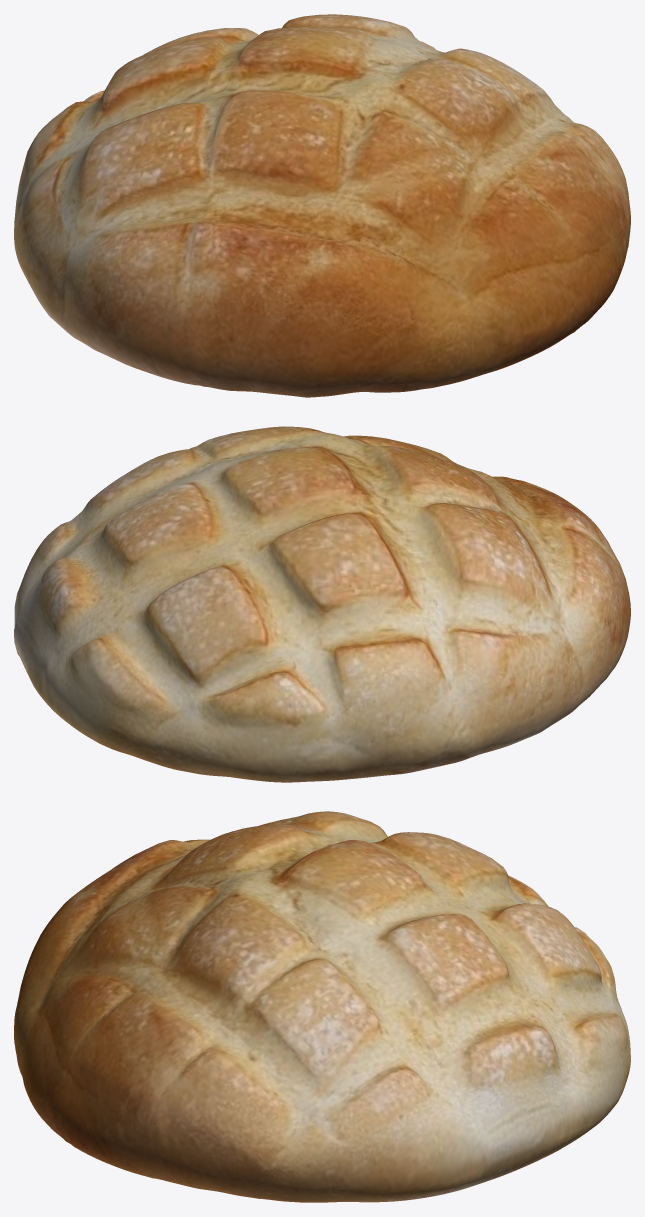
File: bread_roll_1.fbx
The picture shows the model from 3 angles, top to bottom: view 1: azimuth 30°, elevation 25°; view 2: azimuth 150°, elevation 25°; view 3: azimuth 270°, elevation 25°; orthographic projection. The views are drawn at different scales.
Parts seen in each view (by area): view 1: BreadRoll1; view 2: BreadRoll1; view 3: BreadRoll1.
Part boxes in pixels (box(x1,y1,x2,y2)): BreadRoll1: box(14, 14, 630, 397); BreadRoll1: box(14, 426, 630, 782); BreadRoll1: box(14, 811, 630, 1202).
Size of what is drawn, in the model's own units: 13.59 by 13.42 by 5.72.
